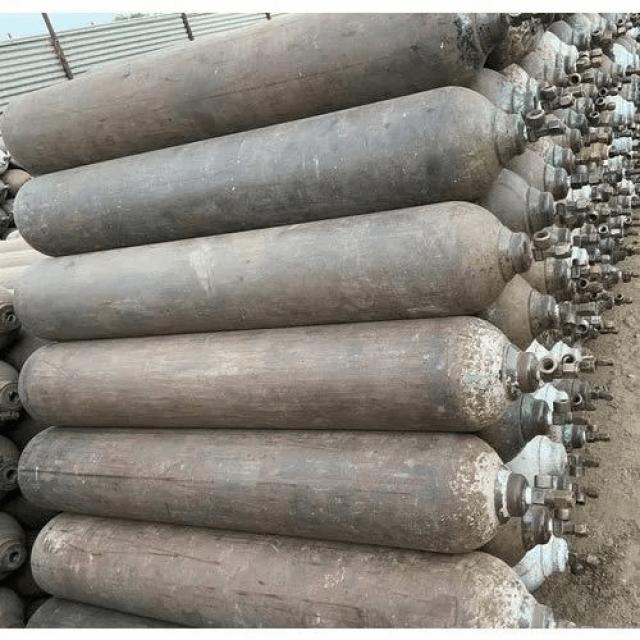Cylinder: (16, 86, 525, 255), (1, 14, 512, 174), (14, 201, 531, 340), (19, 316, 536, 432), (19, 428, 502, 552), (31, 514, 554, 628)
